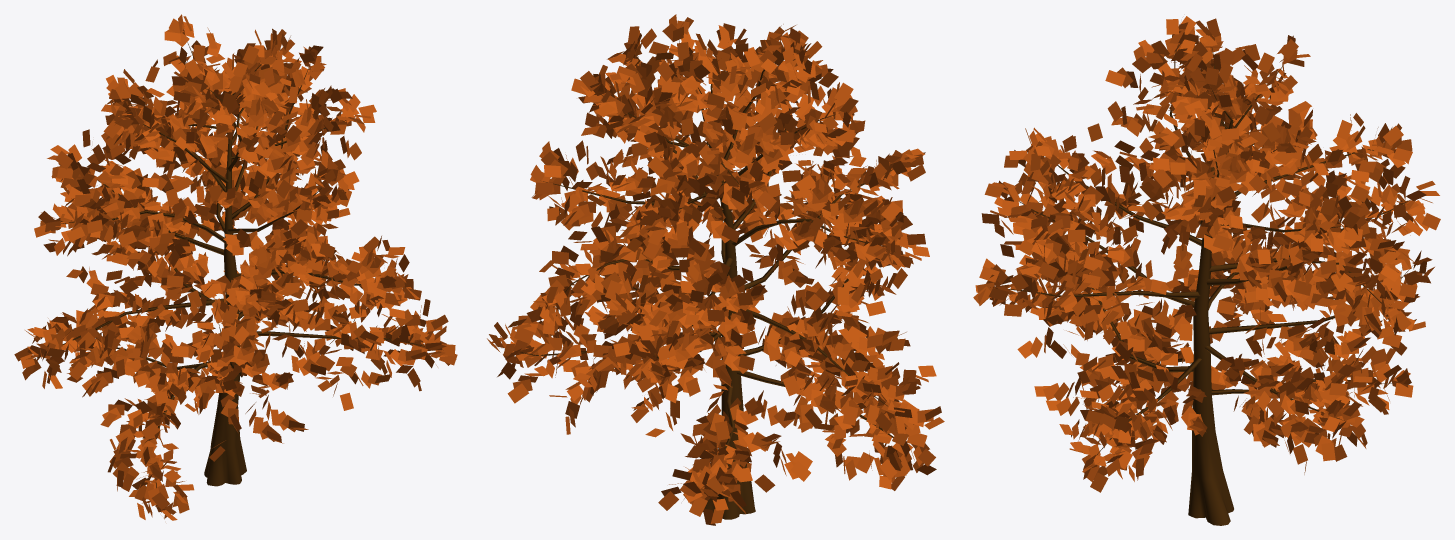
Rendered from Oak.FBX.
The picture shows the model from 3 angles, left to right: view 1: azimuth 30°, elevation 25°; view 2: azimuth 150°, elevation 25°; view 3: azimuth 270°, elevation 25°; orthographic projection. The views are drawn at different scales.
Parts seen in each view (by area): view 1: Foliage002; view 2: Foliage002; view 3: Foliage002.
Boxes of the visible parts, left/top/right/bottom form: Foliage002: left=14, top=14, right=457, bottom=520; Foliage002: left=487, top=14, right=944, bottom=525; Foliage002: left=973, top=16, right=1440, bottom=525.
Size of the model in its own units: 383 by 446 by 398.
